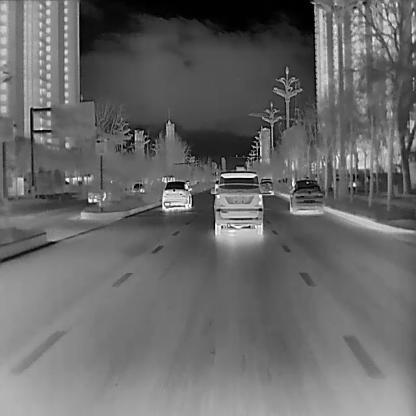car: (209, 170, 263, 235), (289, 179, 323, 214), (161, 181, 192, 211), (258, 177, 274, 195), (130, 182, 145, 194)
